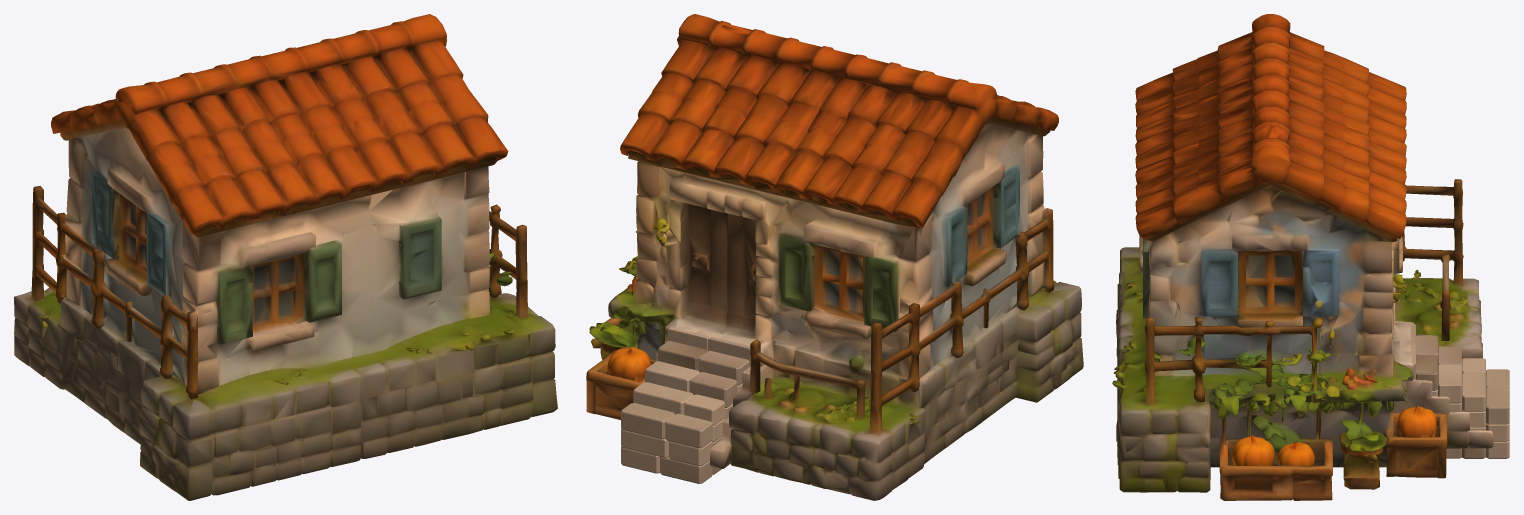
The picture shows the model from 3 angles, left to right: view 1: azimuth 30°, elevation 25°; view 2: azimuth 150°, elevation 25°; view 3: azimuth 270°, elevation 25°; orthographic projection. The views are drawn at different scales.
Visible parts, largest first — view 1: Fachada_B3; view 2: Fachada_B3, Alvenaria_B3; view 3: Fachada_B3, Alvenaria_B3.
Boxes of the visible parts, left/top/right/bottom form: Fachada_B3: left=14, top=14, right=557, bottom=500; Fachada_B3: left=586, top=14, right=1083, bottom=500; Alvenaria_B3: left=621, top=327, right=750, bottom=483; Fachada_B3: left=1112, top=14, right=1493, bottom=500; Alvenaria_B3: left=1410, top=324, right=1509, bottom=458.
Bounding box in the file's own units: 640 × 561 × 608.
